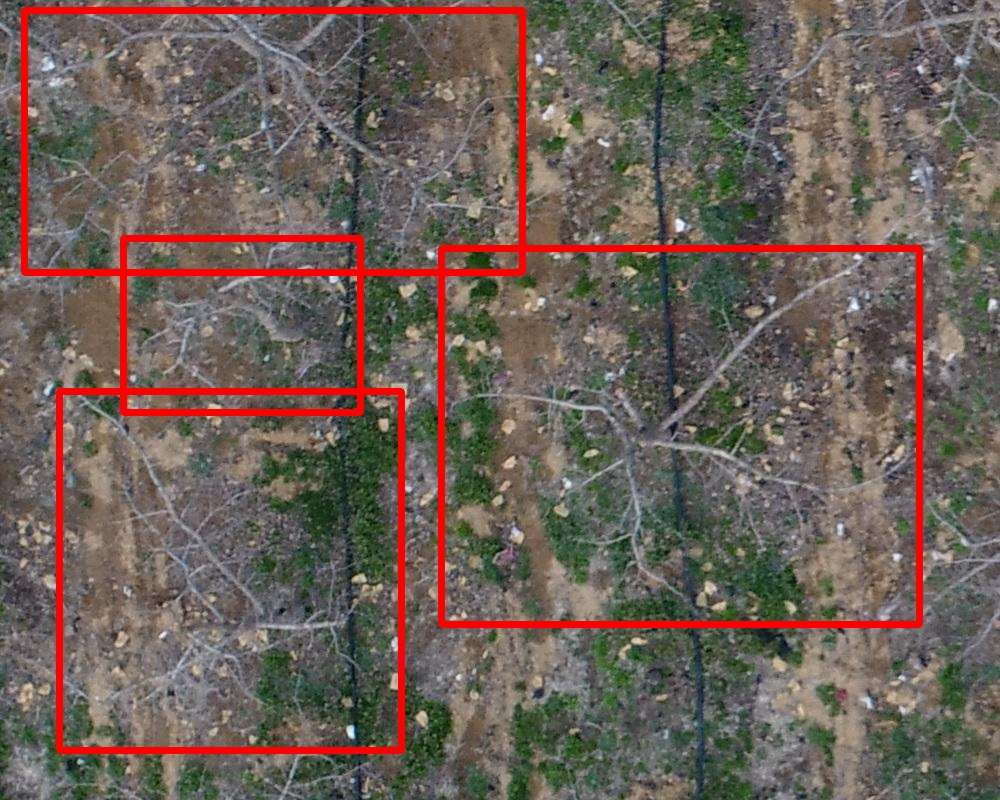apple: (441, 248, 919, 624), (24, 10, 522, 272), (59, 391, 401, 750), (123, 238, 360, 412)
